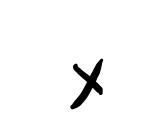mult: (70, 59, 106, 110)
